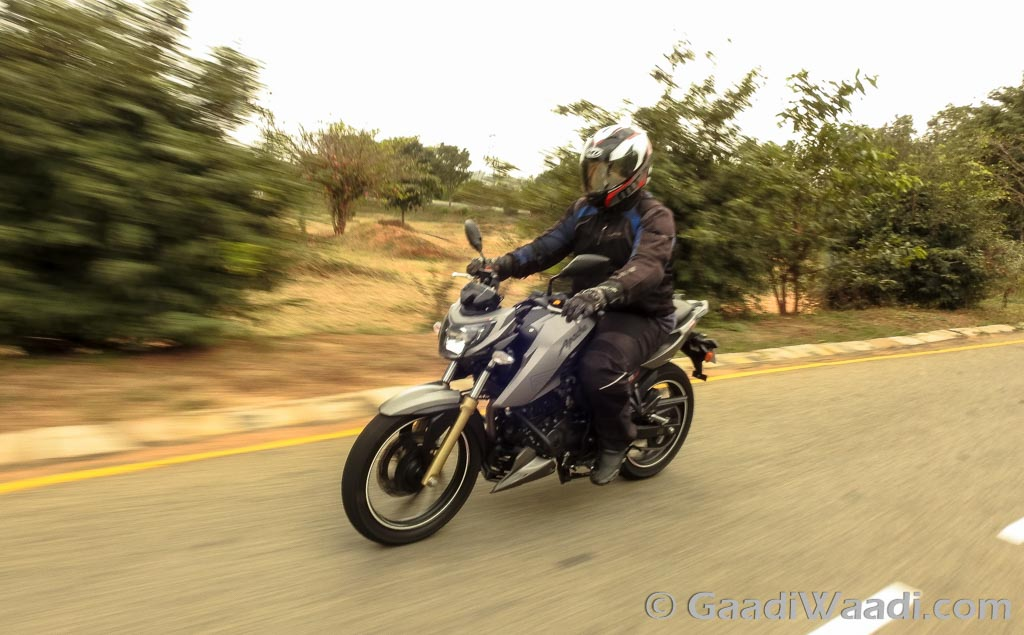Bike: (345, 286, 713, 533)
